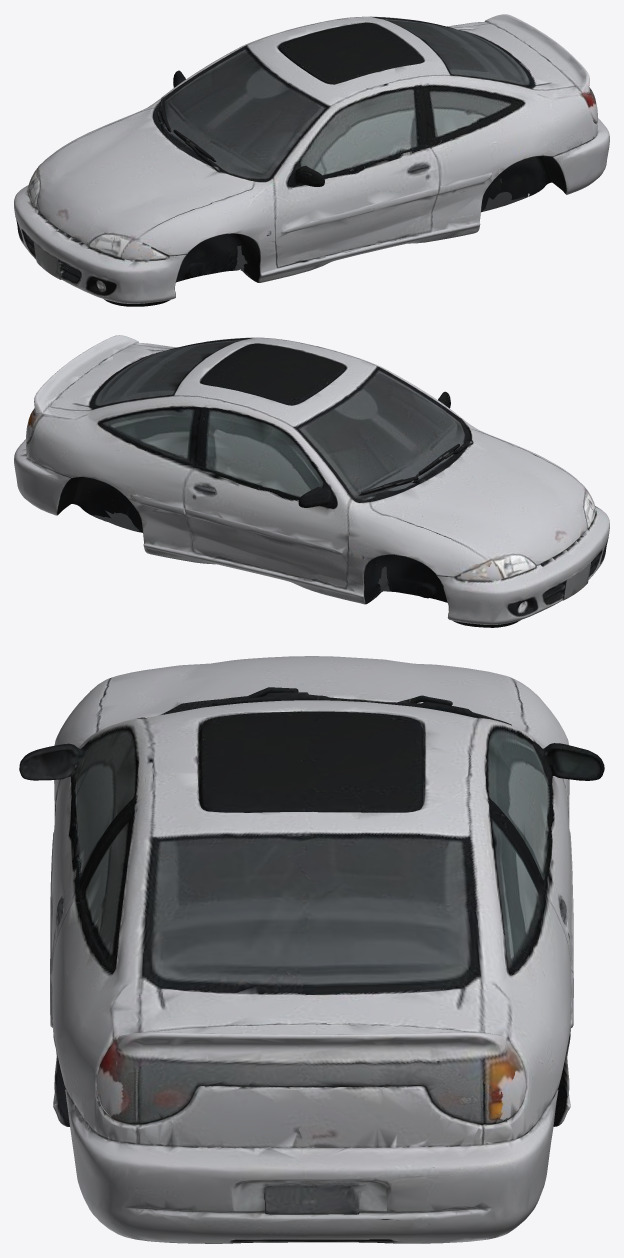
File: lakeshore-coupe.glb
The picture shows the model from 3 angles, top to bottom: view 1: azimuth 30°, elevation 25°; view 2: azimuth 150°, elevation 25°; view 3: azimuth 270°, elevation 25°; orthographic projection. The views are drawn at different scales.
Size of the model in its own units: 1.9 by 0.5512 by 0.9131.
1 material, 1 textured.
